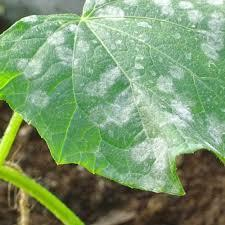powdery_mildew: (14, 1, 225, 187)
